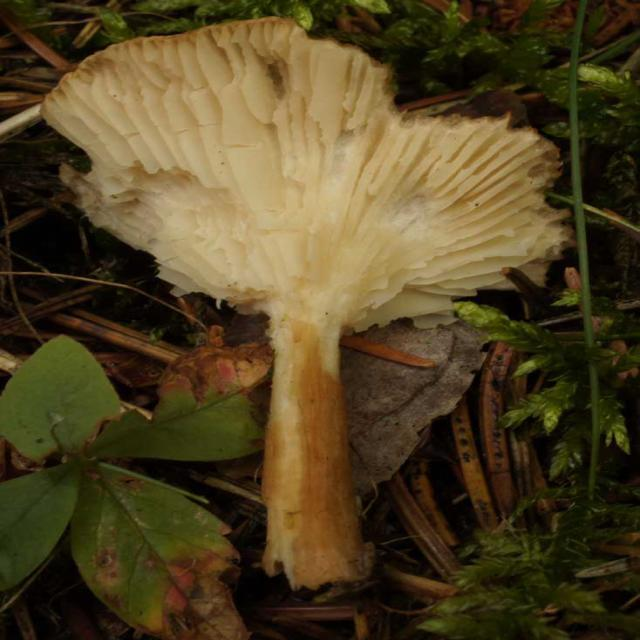Clitocybe maxima: (36, 17, 577, 596)
